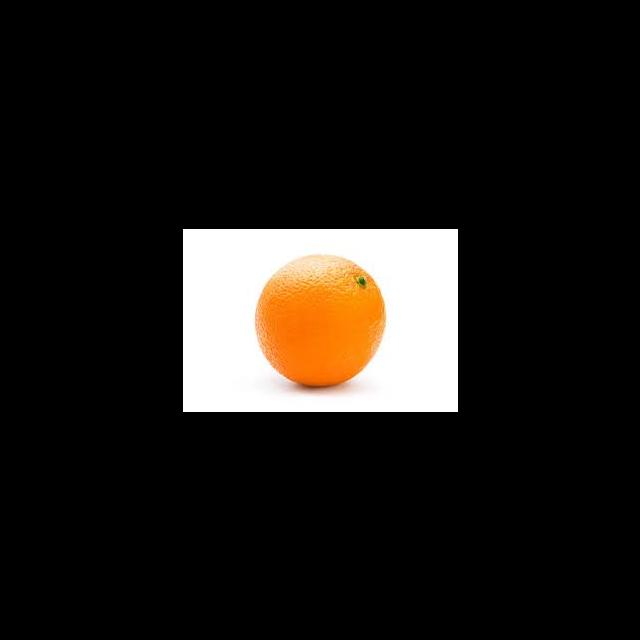orange: (250, 251, 395, 390)
